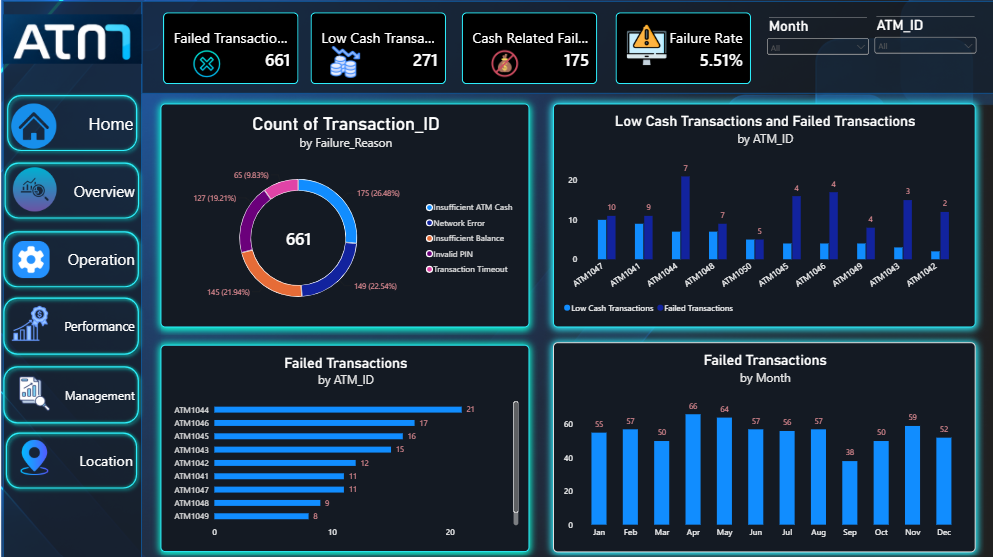

The page's visual inventory and layout, read from the dashboard file:
{"tool":"powerbi","page":{"name":"performance","canvas":[1920,1080],"ordinal":3},"visuals":[{"type":"columnChart","fields":{"Category":["ATM_Transactions.Month"],"Y":["ATM_Transactions.Failed Transactions"]},"box":[1051.7,641.5,711,353.4],"z":1000},{"type":"shape","box":[126.7,67,233.4,942.8],"z":2000},{"type":"shape","box":[123.1,217.2,237.1,112.2],"z":3000},{"type":"image","box":[130.3,240.7,95.9,76],"z":4000},{"type":"shape","box":[119.4,329.4,244.3,112.2],"z":5000},{"type":"image","box":[139.3,347.5,81.4,74.2],"z":6000},{"type":"shape","box":[117.6,445.2,246.1,112.2],"z":7000},{"type":"image","box":[125.2,470.3,94.8,62.6],"z":8000},{"type":"shape","box":[117.6,557.4,246.1,114],"z":9000},{"type":"shape","box":[117.6,673.2,246.1,114],"z":10000},{"type":"image","box":[137.7,577.5,69.7,62.6],"z":11000},{"type":"image","box":[128.7,801,101.9,67.9],"z":12000},{"type":"image","box":[123.4,699.1,110.9,59],"z":13000},{"type":"shape","box":[121.2,783.6,238.9,112.2],"z":14000},{"type":"image","box":[126.7,67,233.4,128.5],"z":15000},{"type":"shape","box":[359.7,67.3,1434.5,155.7],"z":16000},{"type":"cardVisual","fields":{"Data":["ATM_Transactions.Failed Transactions"]},"box":[395.2,86.4,228,121.2],"z":17000},{"type":"image","box":[432.2,142,76.2,59.7],"z":18000},{"type":"cardVisual","fields":{"Data":["ATM_Transactions.Low Cash Transactions"]},"box":[643.6,86.2,228,121.2],"z":19000},{"type":"image","box":[669,144.1,65.9,53.5],"z":20000},{"type":"cardVisual","fields":{"Data":["ATM_Master.Cash Related Failures"]},"box":[898.2,86.2,228,121.2],"z":21000},{"type":"cardVisual","fields":{"Data":["ATM_Transactions.Failure Rate"]},"box":[1156.9,86.2,228,121.2],"z":22000},{"type":"barChart","fields":{"Category":["ATM_Master.ATM_ID"],"Y":["ATM_Transactions.Failed Transactions"]},"box":[391.2,645.7,620.5,349.2],"z":23000},{"type":"clusteredColumnChart","fields":{"Category":["ATM_Master.ATM_ID"],"Y":["ATM_Transactions.Low Cash Transactions","ATM_Transactions.Failed Transactions"]},"box":[1051.7,239.8,711,376.5],"z":24000},{"type":"donutChart","fields":{"Category":["ATM_Transactions.Failure_Reason"],"Y":["CountNonNull(ATM_Transactions.Transaction_ID)"]},"box":[391.2,239.8,620.5,376.5],"z":25000},{"type":"slicer","fields":{"Values":["ATM_Transactions.Month"]},"box":[1407.2,94.7,180.9,107.3],"z":25001},{"type":"slicer","fields":{"Values":["ATM_Master.ATM_ID"]},"box":[1588.1,92.6,180.9,107.3],"z":25002},{"type":"image","box":[929.7,149.3,82,46.3],"z":25003},{"type":"image","box":[1173.7,94.7,71.5,92.6],"z":25004}]}

Visuals, with their boxes in screenshot pixels (x1, y1, x2, y2), scaled from the page's 1920x1080 canvas onto the 993x557 screenshot:
columnChart - ATM_Transactions.Month x ATM_Transactions.Failed Transactions: bbox(544, 331, 912, 513)
shape: bbox(66, 35, 186, 521)
shape: bbox(64, 112, 186, 170)
image: bbox(67, 124, 117, 163)
shape: bbox(62, 170, 188, 228)
image: bbox(72, 179, 114, 217)
shape: bbox(61, 230, 188, 287)
image: bbox(65, 243, 114, 275)
shape: bbox(61, 287, 188, 346)
shape: bbox(61, 347, 188, 406)
image: bbox(71, 298, 107, 330)
image: bbox(67, 413, 119, 448)
image: bbox(64, 361, 121, 391)
shape: bbox(63, 404, 186, 462)
image: bbox(66, 35, 186, 101)
shape: bbox(186, 35, 928, 115)
cardVisual - ATM_Transactions.Failed Transactions: bbox(204, 45, 322, 107)
image: bbox(224, 73, 263, 104)
cardVisual - ATM_Transactions.Low Cash Transactions: bbox(333, 44, 451, 107)
image: bbox(346, 74, 380, 102)
cardVisual - ATM_Master.Cash Related Failures: bbox(465, 44, 582, 107)
cardVisual - ATM_Transactions.Failure Rate: bbox(598, 44, 716, 107)
barChart - ATM_Master.ATM_ID x ATM_Transactions.Failed Transactions: bbox(202, 333, 523, 513)
clusteredColumnChart - ATM_Master.ATM_ID x ATM_Transactions.Low Cash Transactions: bbox(544, 124, 912, 318)
donutChart - ATM_Transactions.Failure_Reason x CountNonNull(ATM_Transactions.Transaction_ID): bbox(202, 124, 523, 318)
slicer - ATM_Transactions.Month: bbox(728, 49, 821, 104)
slicer - ATM_Master.ATM_ID: bbox(821, 48, 915, 103)
image: bbox(481, 77, 523, 101)
image: bbox(607, 49, 644, 97)
